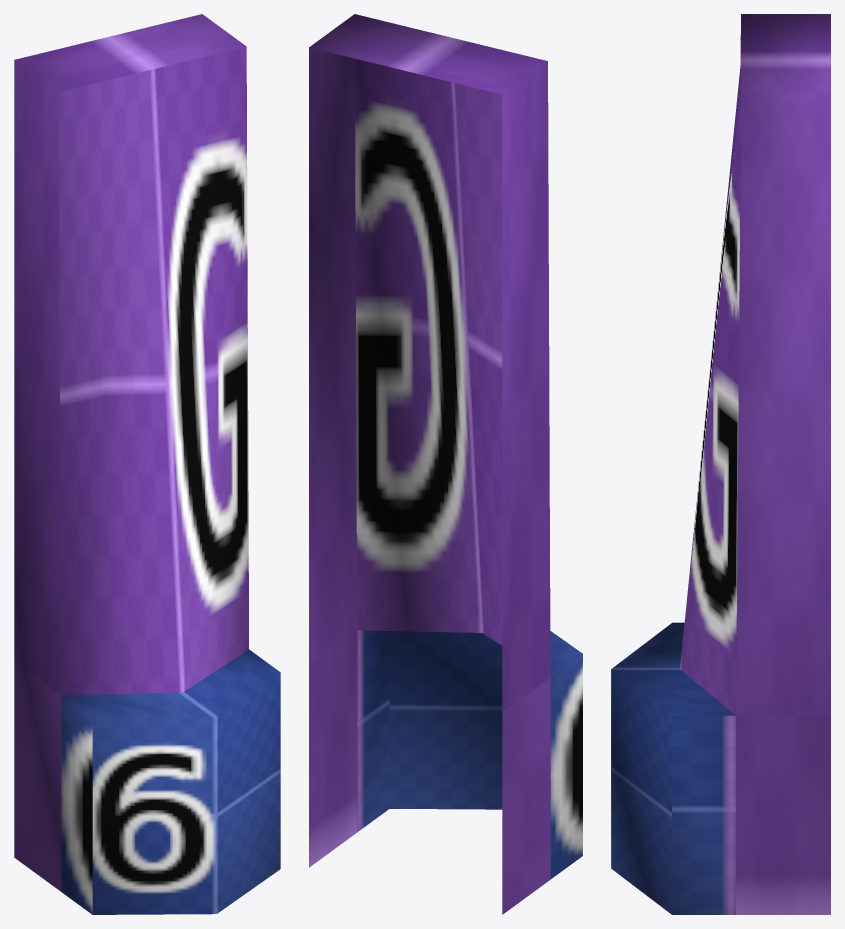
Rendered from WallDivider.fbx.
The picture shows the model from 3 angles, left to right: view 1: azimuth 30°, elevation 25°; view 2: azimuth 150°, elevation 25°; view 3: azimuth 270°, elevation 25°; orthographic projection. The views are drawn at different scales.
Visible parts, largest first — view 1: WallDivider; view 2: WallDivider; view 3: WallDivider.
Boxes of the visible parts, <box> form: WallDivider: <box>14,14,280,914</box>; WallDivider: <box>309,14,582,914</box>; WallDivider: <box>611,14,830,914</box>.
Size of the model in its own units: 360 by 1460 by 360.
